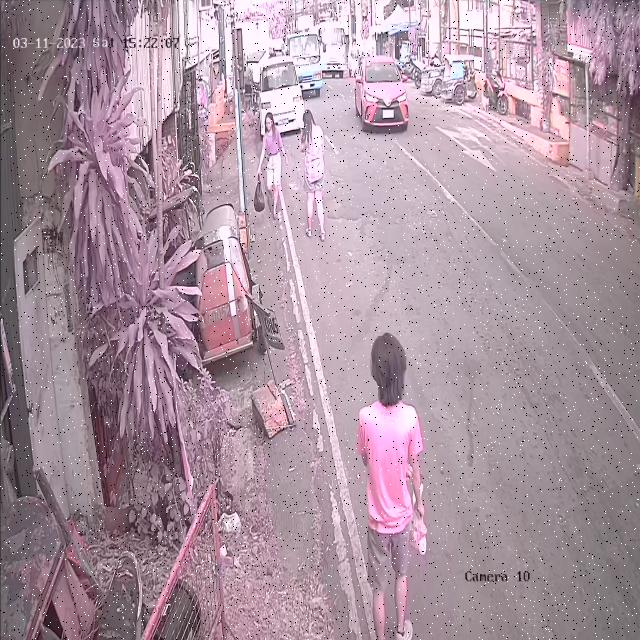human: (359, 333, 427, 640), (254, 113, 290, 224)
trash: (408, 495, 430, 559), (251, 171, 265, 214)
